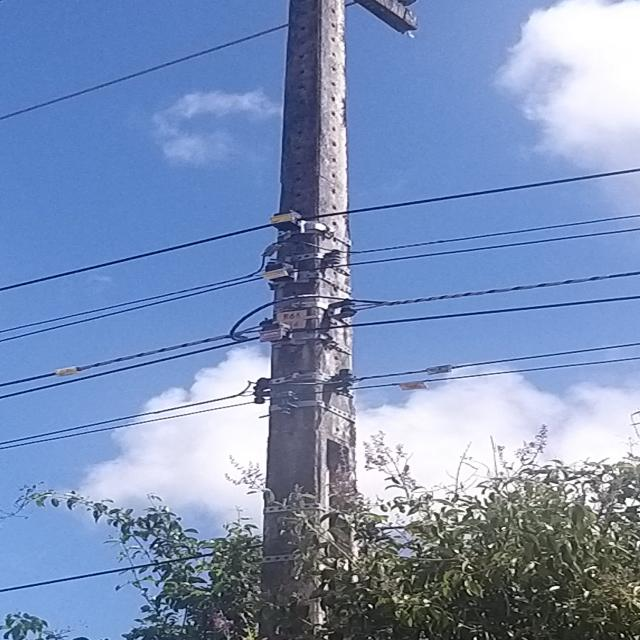Plaqueta: (260, 329, 282, 341)
